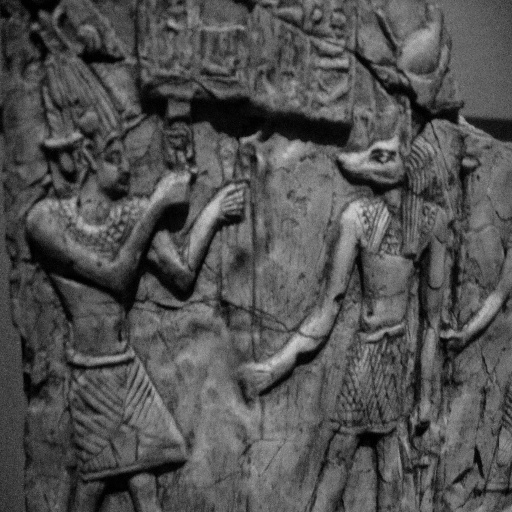hand: (175, 172, 256, 264), (232, 362, 275, 400), (153, 169, 192, 204), (441, 327, 466, 366), (409, 402, 429, 441)
